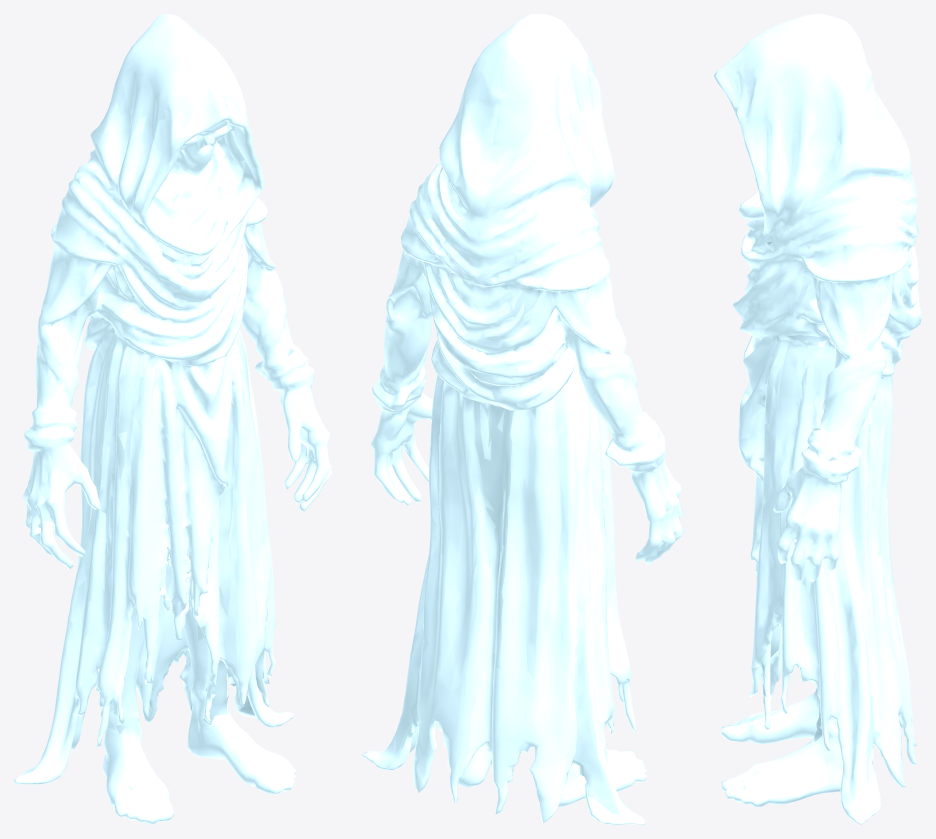
Rendered from frost_wraith.glb.
The picture shows the model from 3 angles, left to right: view 1: azimuth 30°, elevation 25°; view 2: azimuth 150°, elevation 25°; view 3: azimuth 270°, elevation 25°; orthographic projection.
Visible parts, largest first — view 1: Mesh1.0; view 2: Mesh1.0; view 3: Mesh1.0.
Boxes of the visible parts, <box> form: Mesh1.0: <box>14,14,332,824</box>; Mesh1.0: <box>361,14,684,824</box>; Mesh1.0: <box>713,14,921,824</box>.
Size of the model in its own units: 0.7778 by 1.91 by 0.479.
1 material, 1 textured.
